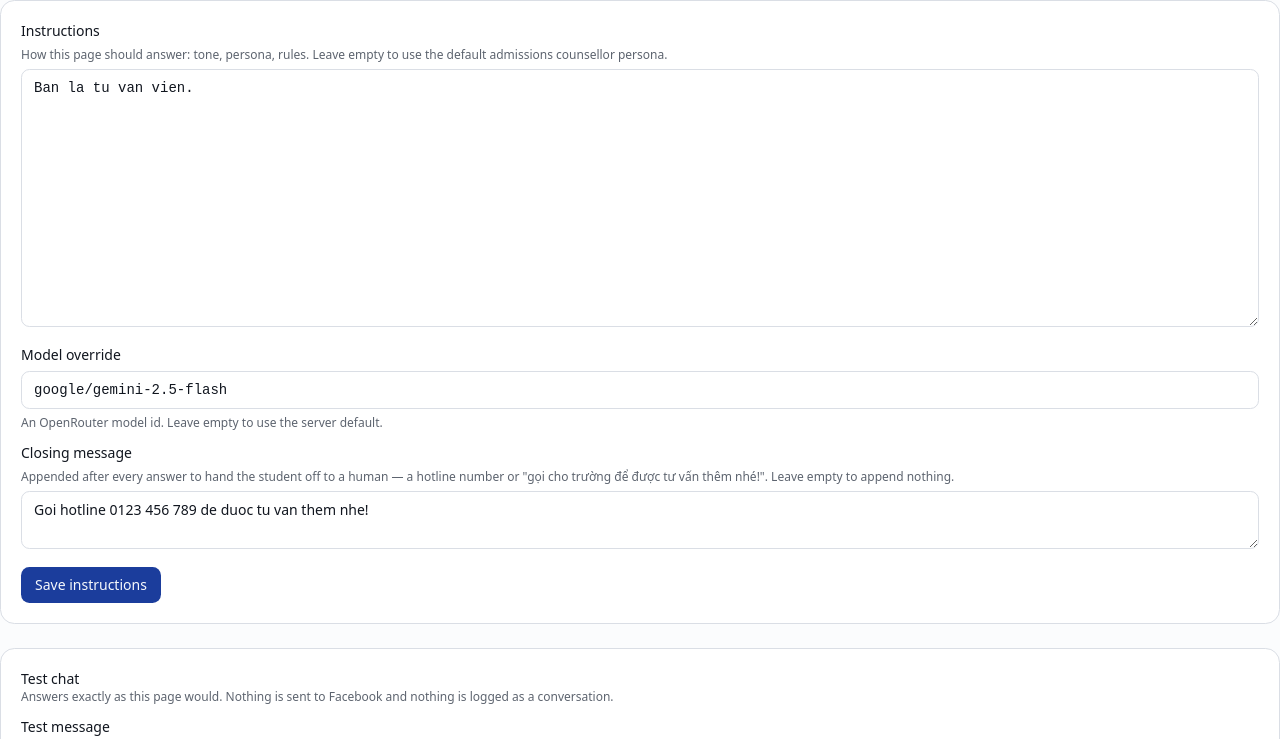
Test: InstructionsTab › confirms a successful save
This screenshot has width=1280, height=739.
Click the button "Save instructions" at (91, 585), box [21,567,161,603]
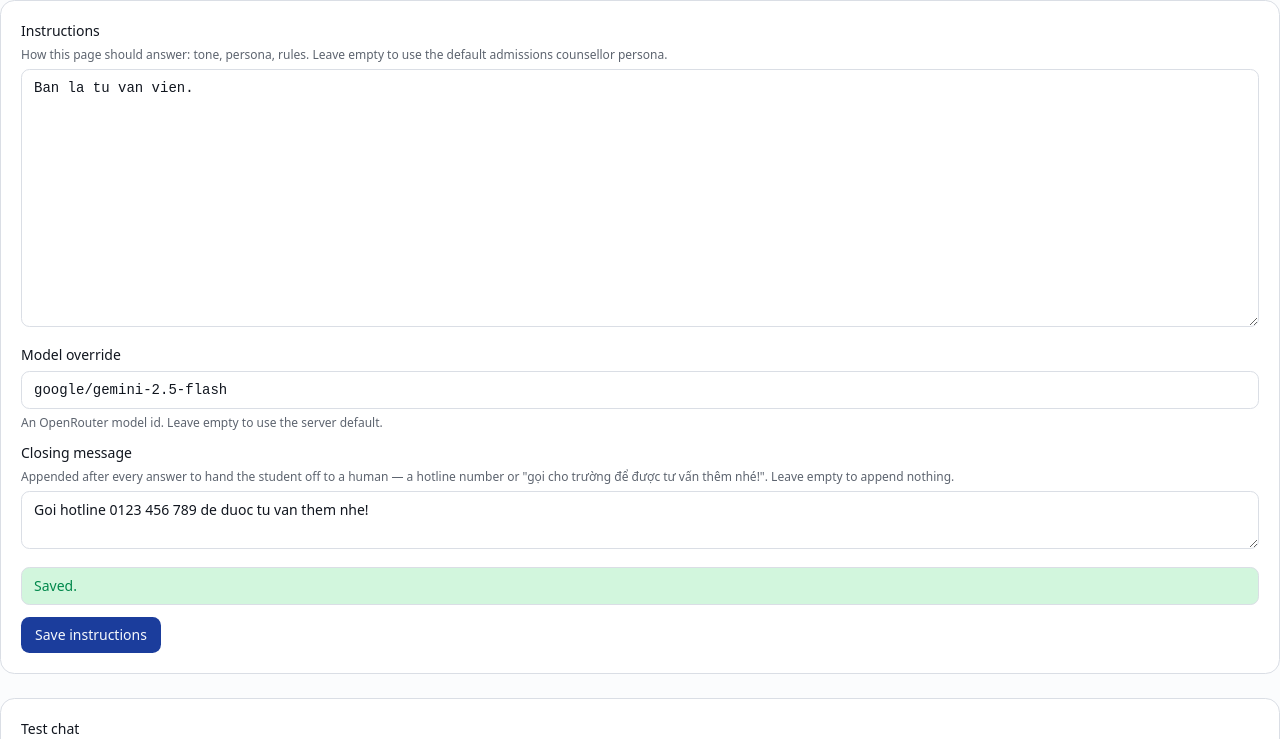
Expected: the text "Saved." is shown, [21,567,1259,605]
